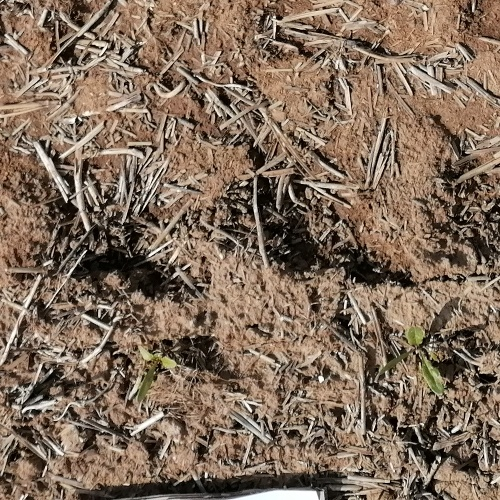beet: (380, 326, 446, 396), (137, 347, 177, 406)
